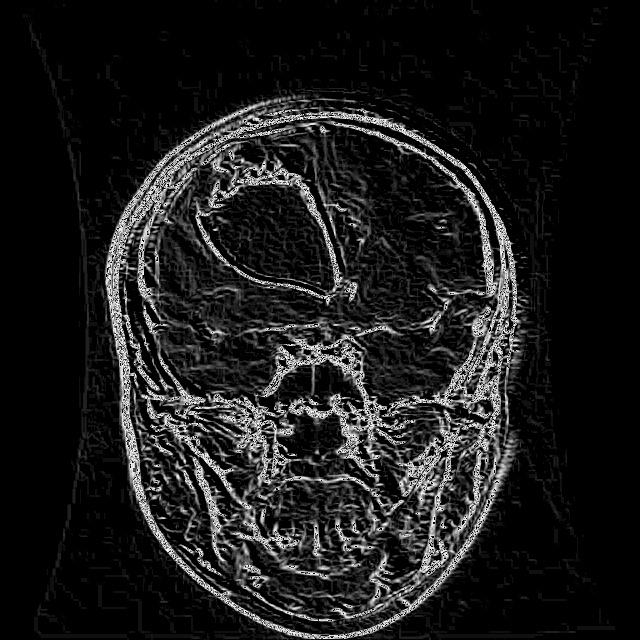Brain-Tumor: (190, 143, 358, 310)
